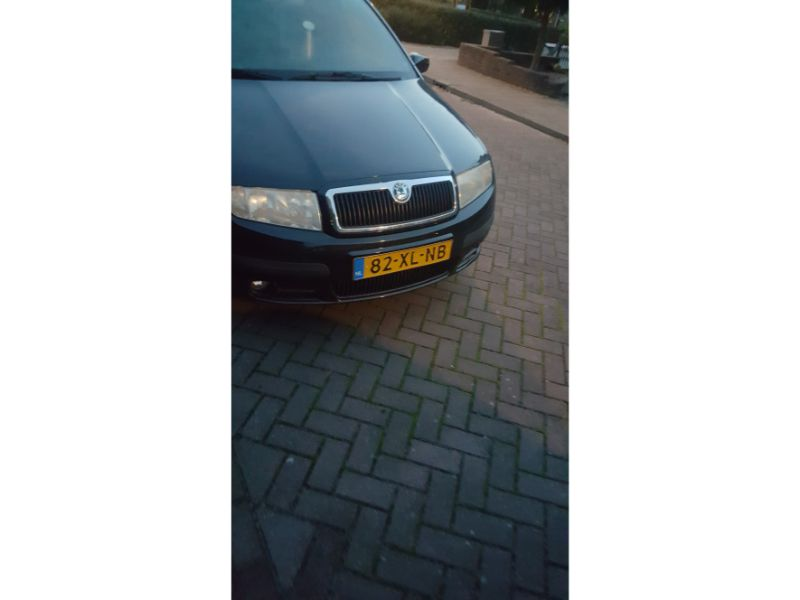kenteken: (352, 237, 458, 281)
